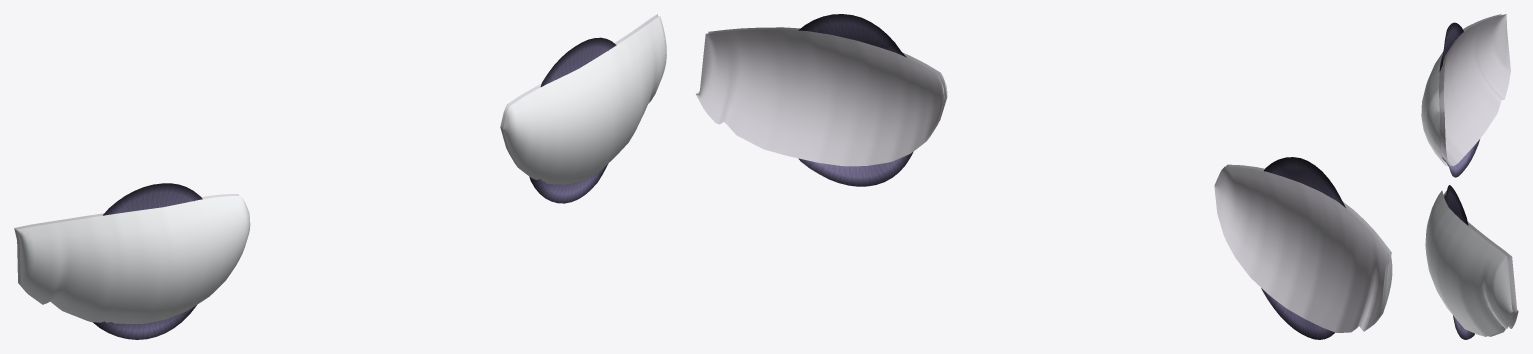
Rendered from eye_authored_v1.glb.
3 views of the same model, side by side, from view 1: azimuth 30°, elevation 25°; view 2: azimuth 150°, elevation 25°; view 3: azimuth 270°, elevation 25° (orthographic). The views are drawn at different scales.
Visible parts, largest first — view 1: EyeL_TearFilm, EyeR_TearFilm, EyeL_Iris, EyeR_Iris, EyeL_Sclera, EyeR_Sclera; view 2: EyeR_Sclera, EyeL_Sclera, EyeR_Iris, EyeL_Iris, EyeL_TearFilm, EyeR_TearFilm; view 3: EyeR_TearFilm, EyeL_Sclera, EyeL_TearFilm, EyeL_Iris, EyeR_Sclera, EyeR_Iris.
Boxes of the visible parts, <box> form: EyeL_TearFilm: <box>17,196,250,323</box>; EyeR_TearFilm: <box>503,16,666,184</box>; EyeL_Iris: <box>93,183,202,339</box>; EyeR_Iris: <box>529,37,616,203</box>; EyeL_Sclera: <box>14,194,239,308</box>; EyeR_Sclera: <box>500,14,658,173</box>; EyeR_Sclera: <box>695,29,944,166</box>; EyeL_Sclera: <box>1214,166,1388,332</box>; EyeR_Iris: <box>798,14,913,186</box>; EyeL_Iris: <box>1261,157,1345,339</box>; EyeL_TearFilm: <box>1226,164,1392,329</box>; EyeR_TearFilm: <box>698,27,947,148</box>; EyeR_TearFilm: <box>1425,191,1513,336</box>; EyeL_Sclera: <box>1439,14,1510,166</box>; EyeL_TearFilm: <box>1421,14,1501,165</box>; EyeL_Iris: <box>1439,22,1479,177</box>; EyeR_Sclera: <box>1443,190,1518,336</box>; EyeR_Iris: <box>1444,185,1474,339</box>.
Bounding box in the file's own units: 0.2227 × 0.0635 × 0.0309.
4 materials, 1 textured.
